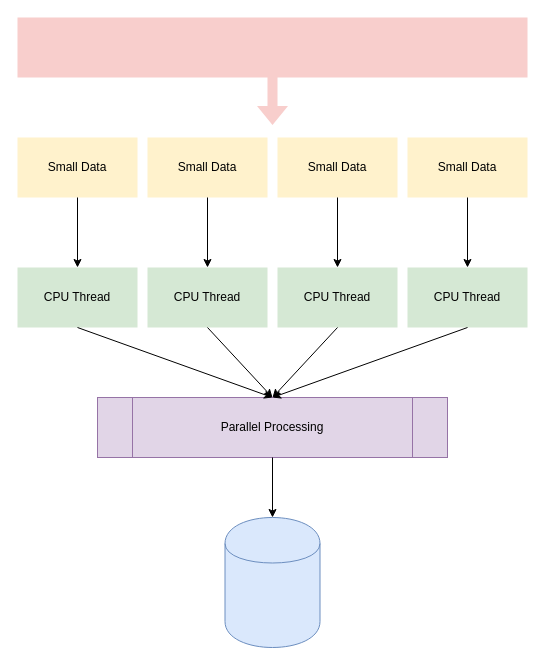
Image size: 544x665. Some labels were removed from this diagram. Each missing label, with the centre of its shape:
Big Data: the point at 272,47
Elasticsearch: the point at 272,582
